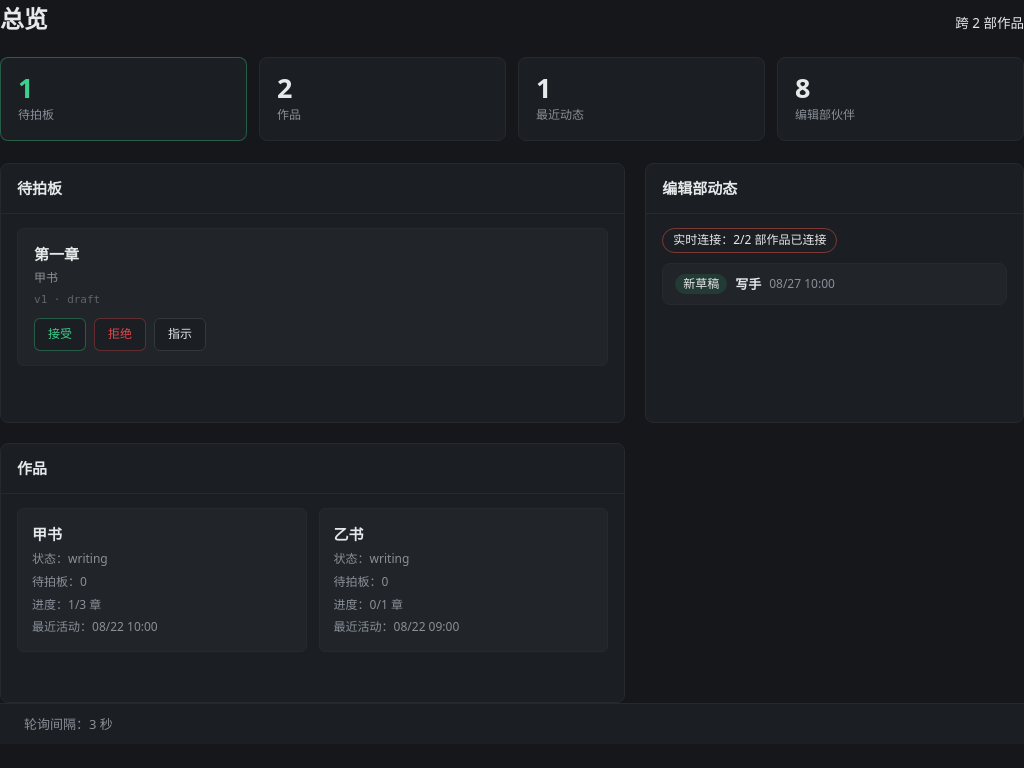
Test: OverviewPage realtime events window › keeps the drill-down drawer and pending aggregation working
The width and height of the screenshot is (1024, 768).
Expected: the text "第一章" is shown, x1=34 y1=243 x2=79 y2=266
Click the button with test id "event-item-button".
click(835, 284)  # box x1=662 y1=263 x2=1007 y2=305
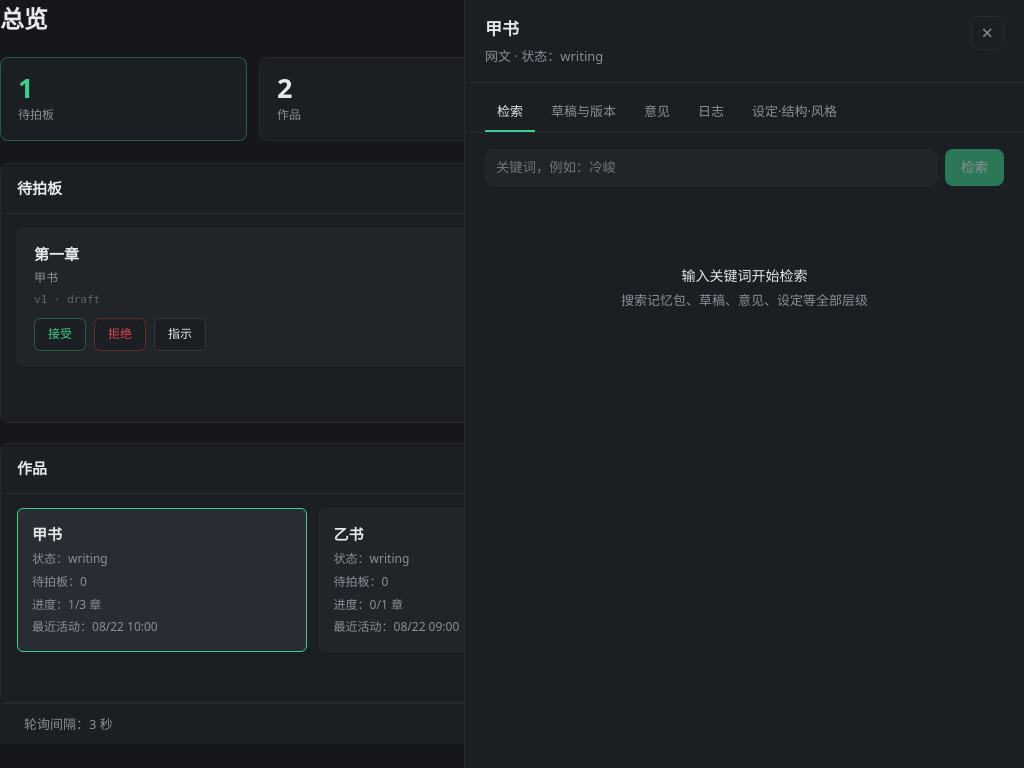
Now the element with test id "workspace-drawer" shows "甲书", box x1=485 y1=17 x2=519 y2=40
